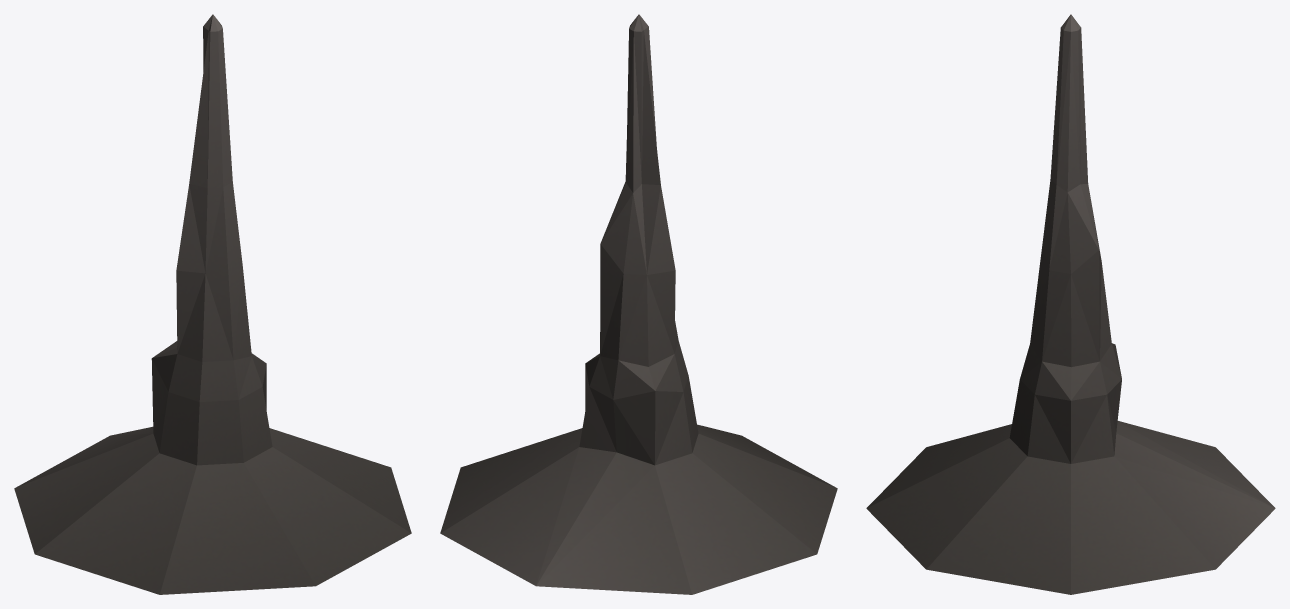
File: Stal_7A.fbx
3 views of the same model, side by side, from view 1: azimuth 30°, elevation 25°; view 2: azimuth 150°, elevation 25°; view 3: azimuth 270°, elevation 25° (orthographic).
Visible parts, largest first — view 1: pCone12; view 2: pCone12; view 3: pCone12.
Part boxes in pixels (left/top/right/bottom): pCone12: left=14, top=14, right=411, bottom=594; pCone12: left=440, top=14, right=837, bottom=594; pCone12: left=866, top=14, right=1275, bottom=594.
Size of the model in its own units: 435 by 580 by 435.
1 material, 1 textured.
